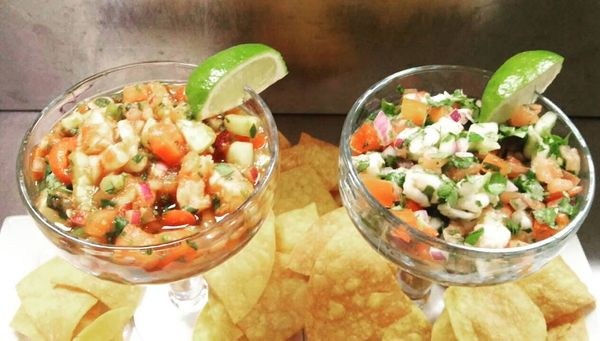curry: (511, 172, 546, 203)
sushi: (16, 58, 282, 288), (337, 60, 599, 290)
